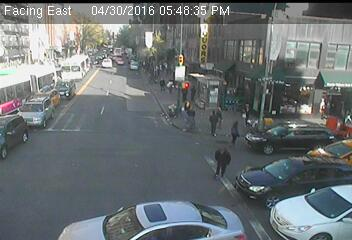neg: (327, 146, 351, 180), (83, 138, 107, 170), (229, 28, 251, 58), (256, 181, 278, 210), (76, 34, 96, 61), (64, 194, 83, 220), (56, 31, 75, 56), (270, 41, 288, 66), (1, 120, 18, 142), (181, 31, 196, 51), (210, 27, 225, 47), (286, 219, 301, 239), (310, 160, 325, 179), (116, 44, 130, 63), (60, 58, 74, 76), (106, 30, 119, 48), (37, 89, 50, 107), (35, 57, 48, 74), (160, 23, 171, 39), (41, 32, 52, 46), (8, 101, 16, 112), (25, 115, 33, 126), (148, 33, 156, 43), (109, 70, 116, 78), (14, 56, 20, 64), (105, 46, 109, 51)
pos: (207, 144, 231, 176), (226, 117, 246, 144), (204, 110, 222, 134), (177, 81, 194, 104), (186, 106, 202, 128), (187, 82, 202, 102), (156, 77, 168, 92), (244, 102, 256, 117), (153, 64, 163, 78)
